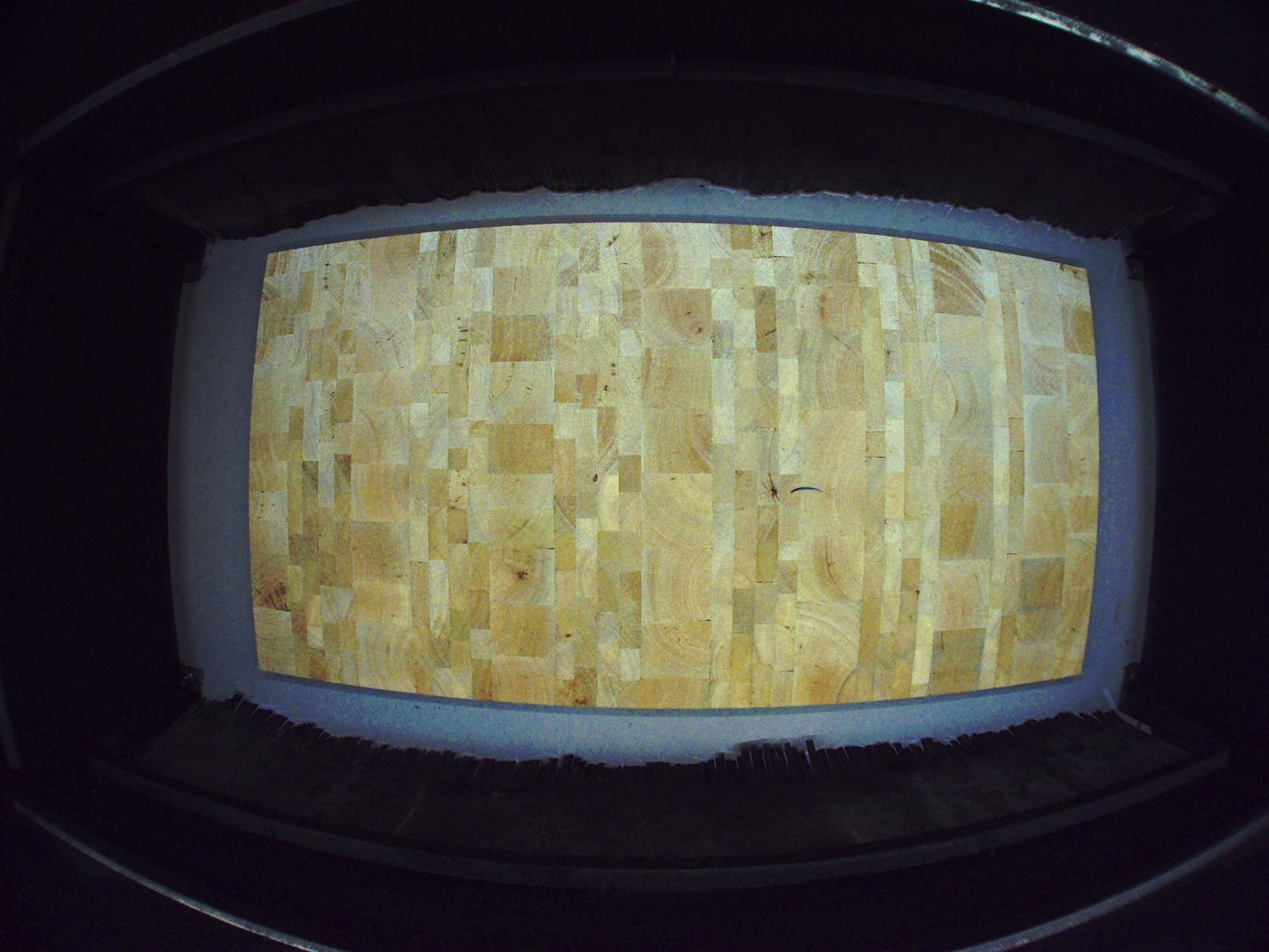sheck_ecuatoriano: (766, 428, 783, 504)
